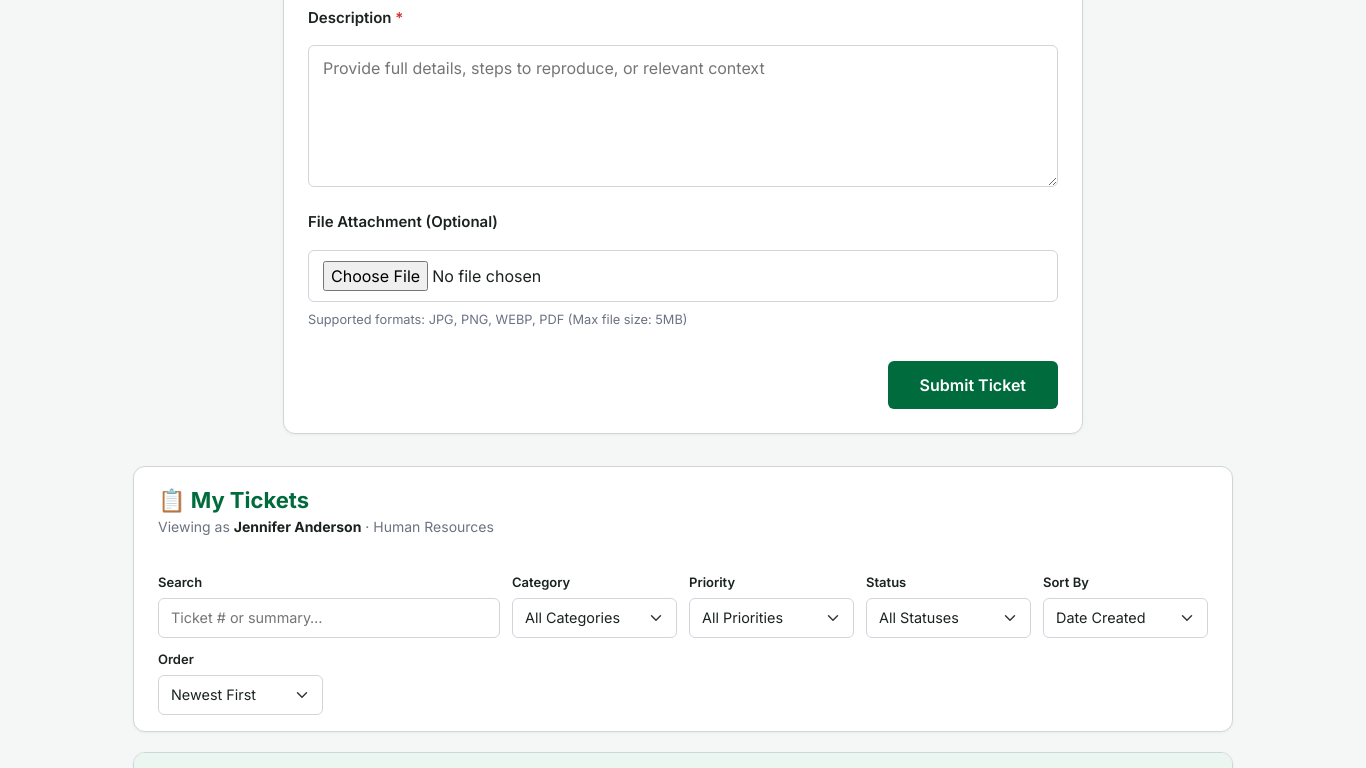
CreateTicket Component › displays real-time inline validation error messages when submitting empty required fields
(page scrolled)
Click the button "Submit Ticket". click: point(973, 385)
box: [888,361,1058,409]
(page scrolled)
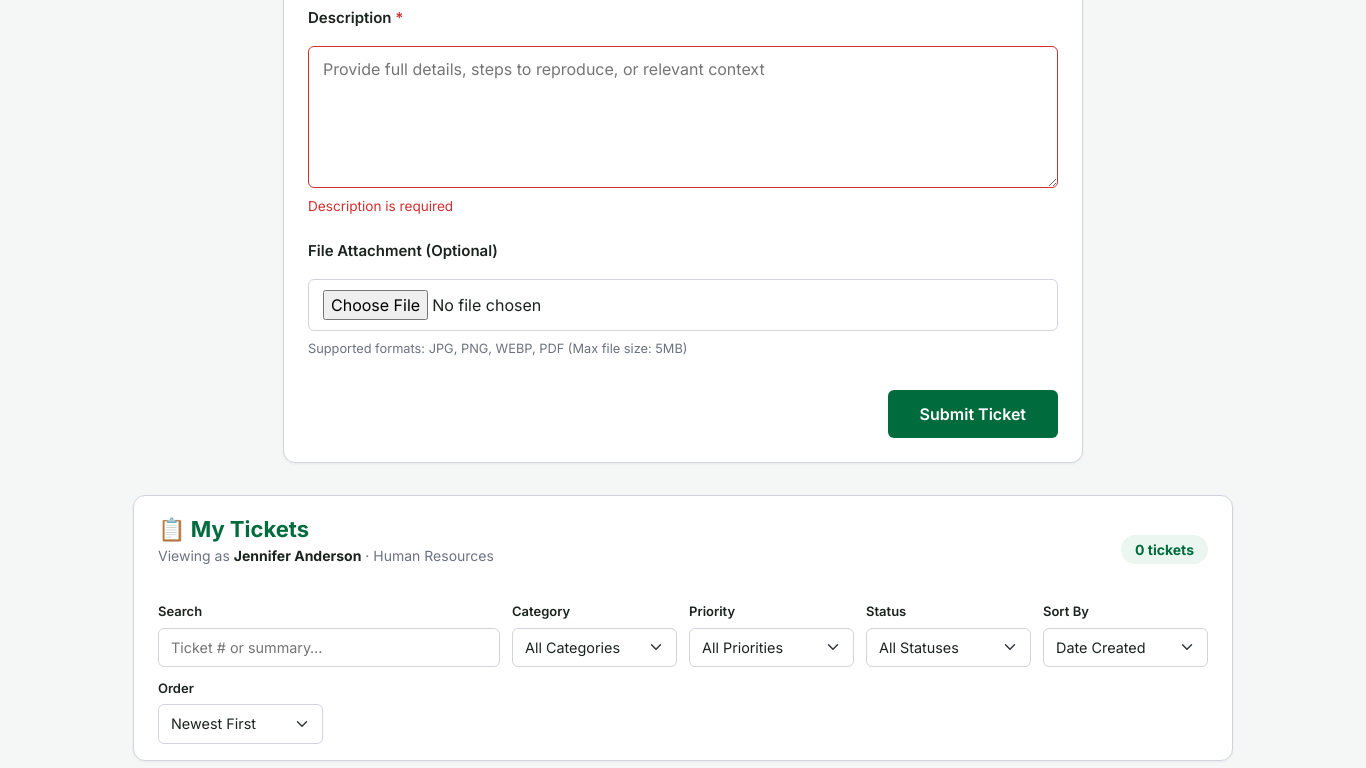
Now the text "Description is required" is shown, box [308,198,453,214]
